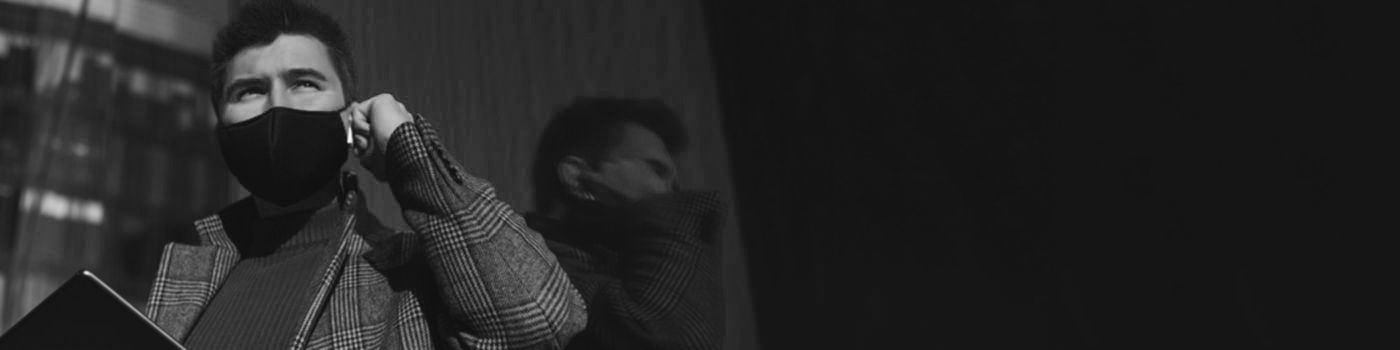earphone: (346, 103, 363, 150)
